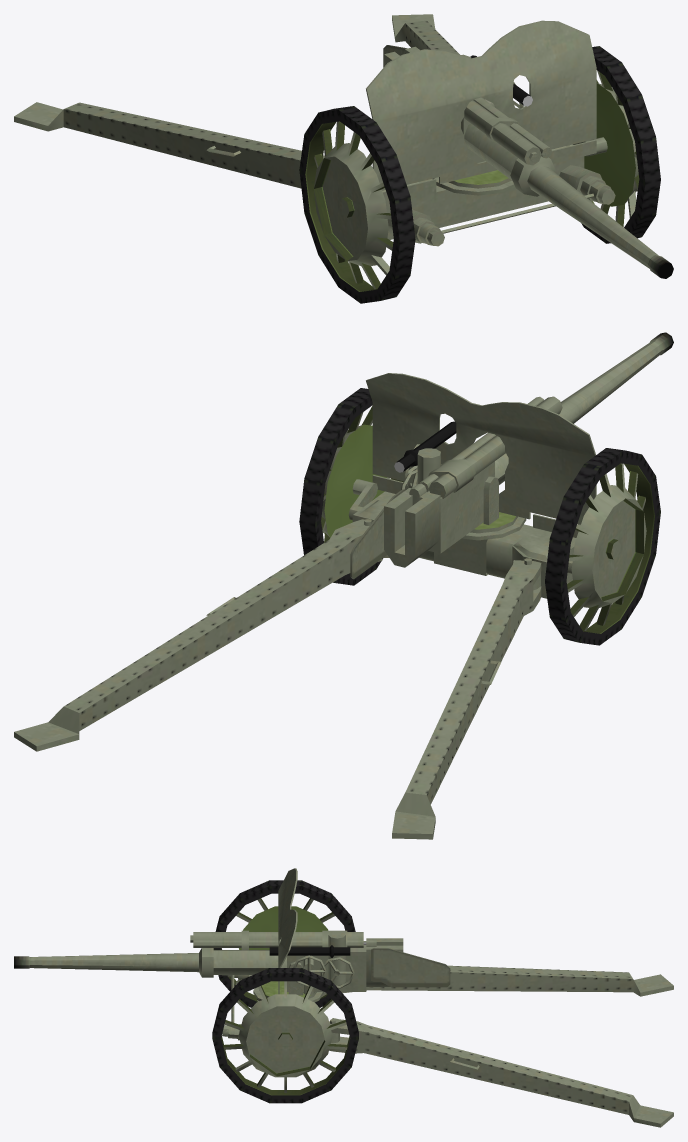
The model's file is FRA47mmAT.dae.
3 renders of one model, top to bottom at view 1: azimuth 30°, elevation 25°; view 2: azimuth 150°, elevation 25°; view 3: azimuth 270°, elevation 25°, orthographic. The views are drawn at different scales.
Parts seen in each view (by area): view 1: wheels, turret, trail1, carriage, sleeve, barrel, trail2; view 2: wheels, turret, trail2, trail1, sleeve, carriage, barrel; view 3: wheels, sleeve, trail2, trail1, turret, barrel, carriage.
Part boxes in pixels (left/top/right/bottom): wheels: left=299, top=46, right=660, bottom=303; turret: left=366, top=20, right=596, bottom=190; trail1: left=14, top=102, right=324, bottom=188; carriage: left=382, top=137, right=615, bottom=246; sleeve: left=383, top=45, right=556, bottom=196; barrel: left=384, top=46, right=673, bottom=278; trail2: left=392, top=14, right=484, bottom=99; wheels: left=299, top=388, right=660, bottom=645; turret: left=366, top=373, right=596, bottom=533; trail2: left=14, top=519, right=382, bottom=751; trail1: left=392, top=558, right=541, bottom=839; sleeve: left=350, top=396, right=562, bottom=579; carriage: left=348, top=475, right=580, bottom=598; barrel: left=384, top=332, right=673, bottom=567; wheels: left=212, top=880, right=358, bottom=1103; sleeve: left=190, top=930, right=450, bottom=991; trail2: left=329, top=1018, right=673, bottom=1127; trail1: left=341, top=965, right=673, bottom=996; turret: left=259, top=868, right=354, bottom=998; barrel: left=14, top=938, right=403, bottom=986; carriage: left=222, top=975, right=339, bottom=1043.
Size of the model in its own units: 20.33 by 37.95 by 10.2.
1 material, 1 textured.
